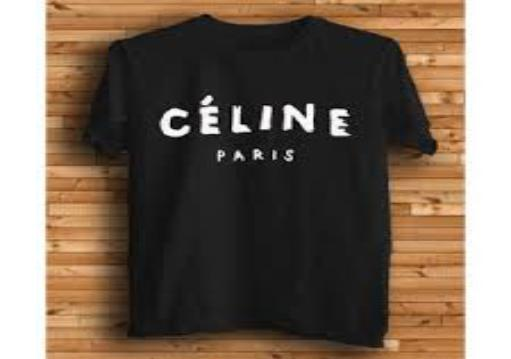CELINE: (149, 92, 367, 145)
